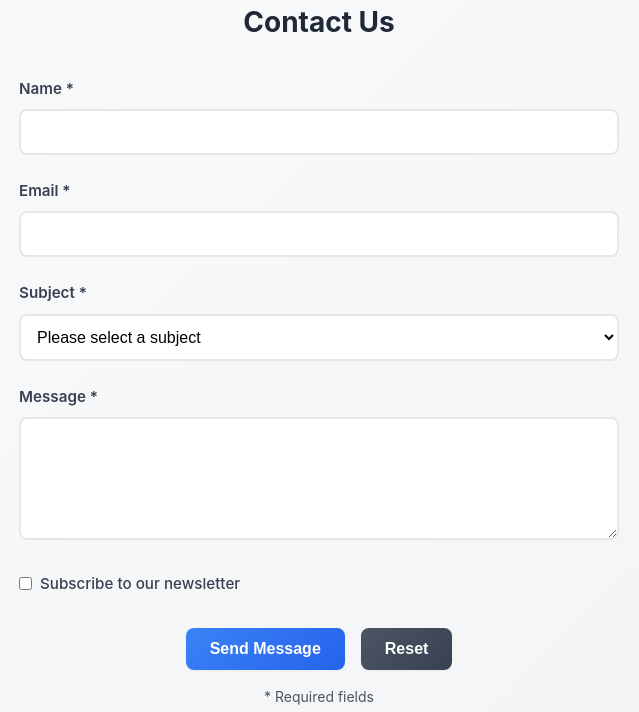
Test: Lesson 2: ContactForm Component - Forms & Async Testing › Async Form Submission › handles submission errors
# Fill out valid form
Type "Error Test" into the field labelled "Name *".
click(319, 132); type("Error Test")  # box [19,109,619,155]
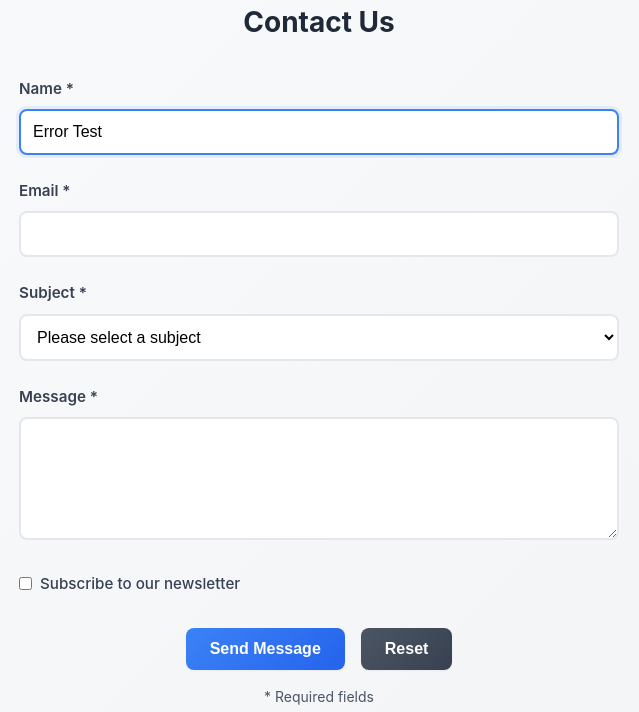
Type "error@example.com" into the field labelled "Email *".
click(319, 234); type("error@example.com")  # box [19,211,619,257]
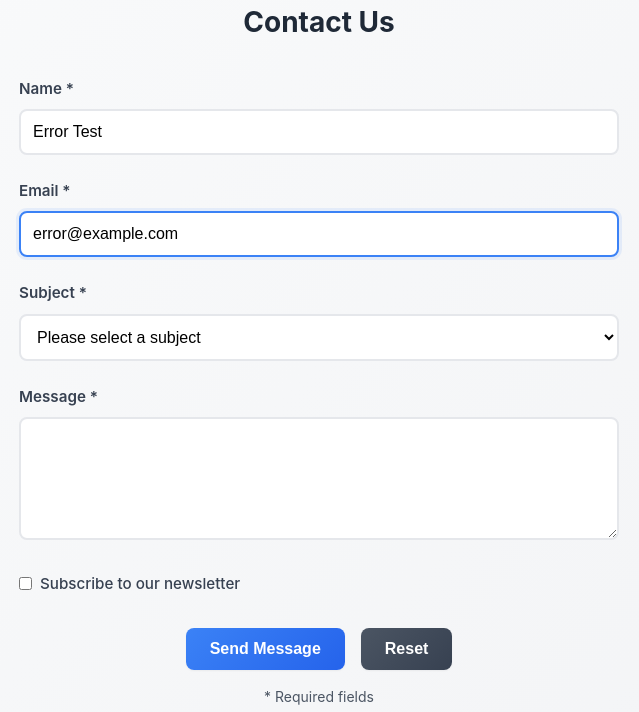
Select "Technical Support" in the dropdown labelled "Subject *" at (319, 337), box [19,314,619,361]
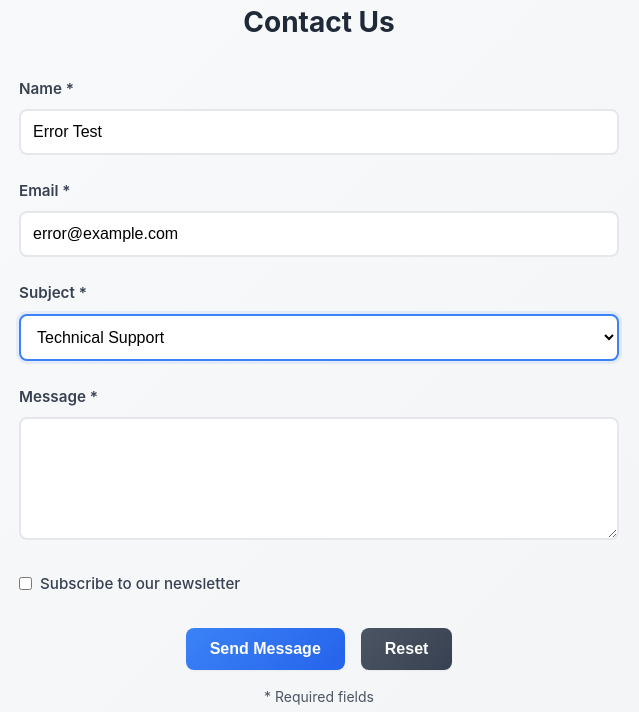
Type "This should trigger an error." into the text box labelled "Message *".
click(319, 478); type("This should trigger an error.")  # box [19,417,619,540]
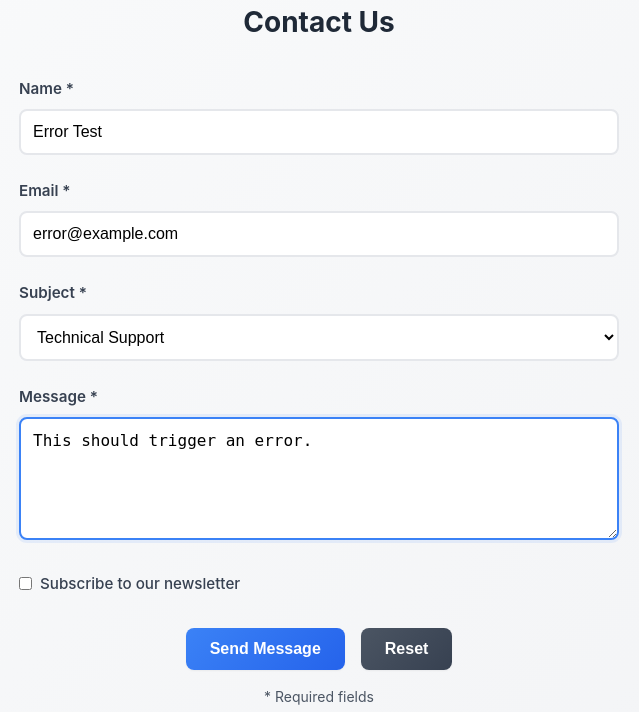
Click the button "Send Message".
click(265, 649)  # box [186,628,345,670]
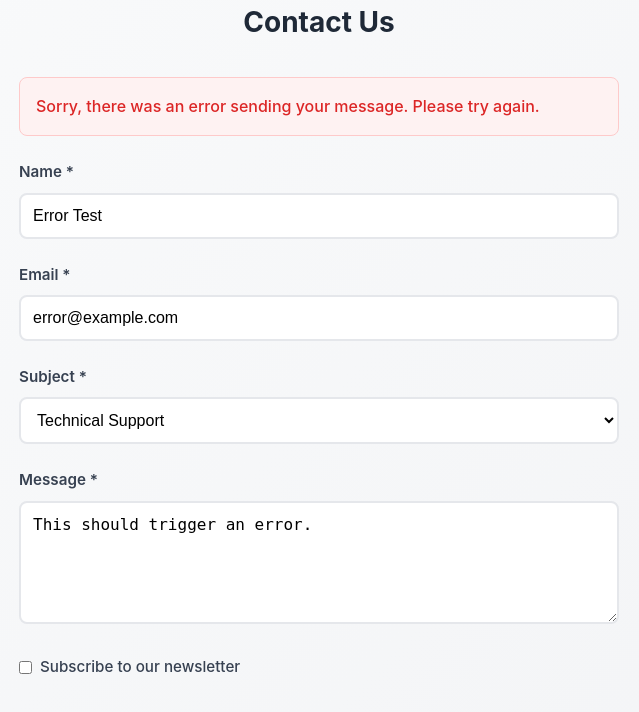
Now the message with test id "error-message" reads "Sorry, there was an error sending your message. Please try again.", box [36,96,540,116]
